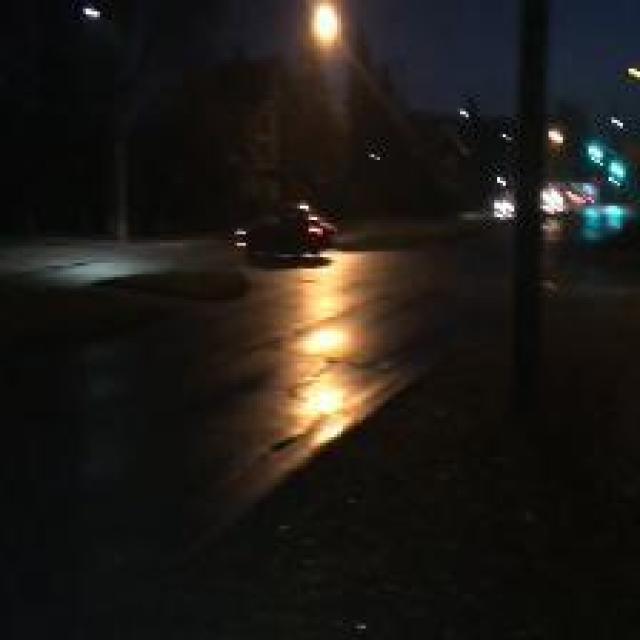other: (294, 279, 354, 432), (278, 2, 346, 66)
